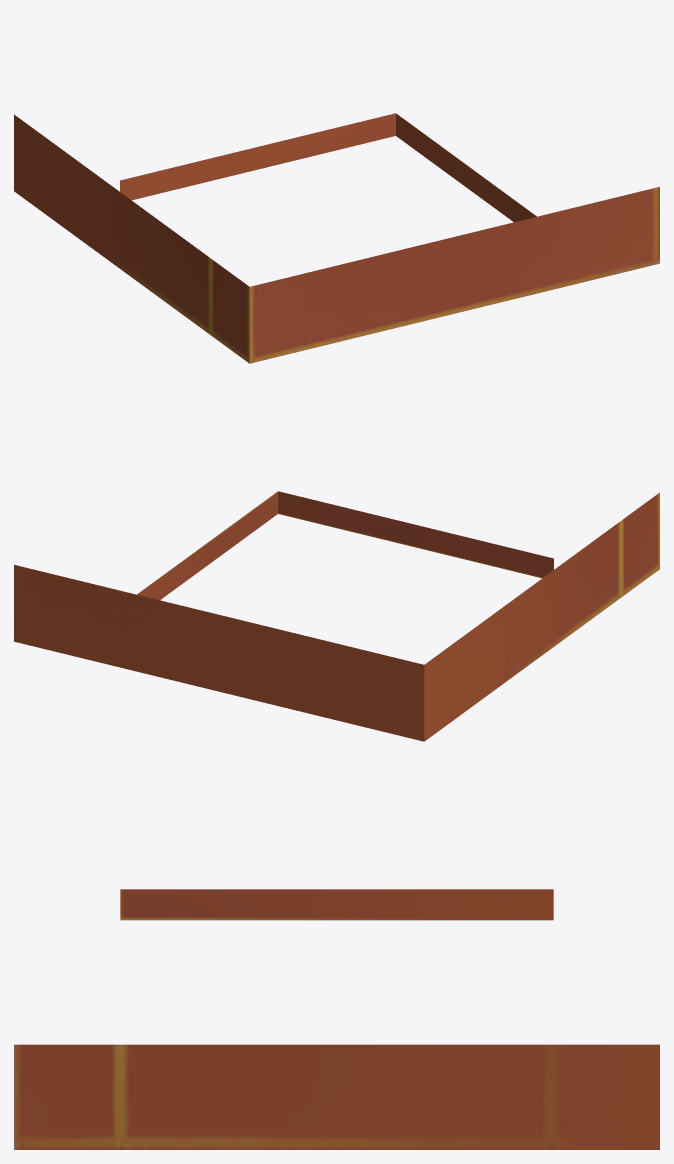
File: light.gltf
3 views of the same model, one above another, from view 1: azimuth 30°, elevation 25°; view 2: azimuth 150°, elevation 25°; view 3: azimuth 270°, elevation 25° (orthographic). The views are drawn at different scales.
Parts seen in each view (by area): view 1: Panel_Light16; view 2: Panel_Light16; view 3: Panel_Light16.
Part boxes in pixels (left/top/right/bottom): Panel_Light16: left=14, top=113, right=659, bottom=363; Panel_Light16: left=14, top=491, right=659, bottom=741; Panel_Light16: left=14, top=889, right=659, bottom=1149.
Size of the model in its own units: 1.74 by 0.3117 by 1.73.
Materials: 2 (1 with a texture image).
